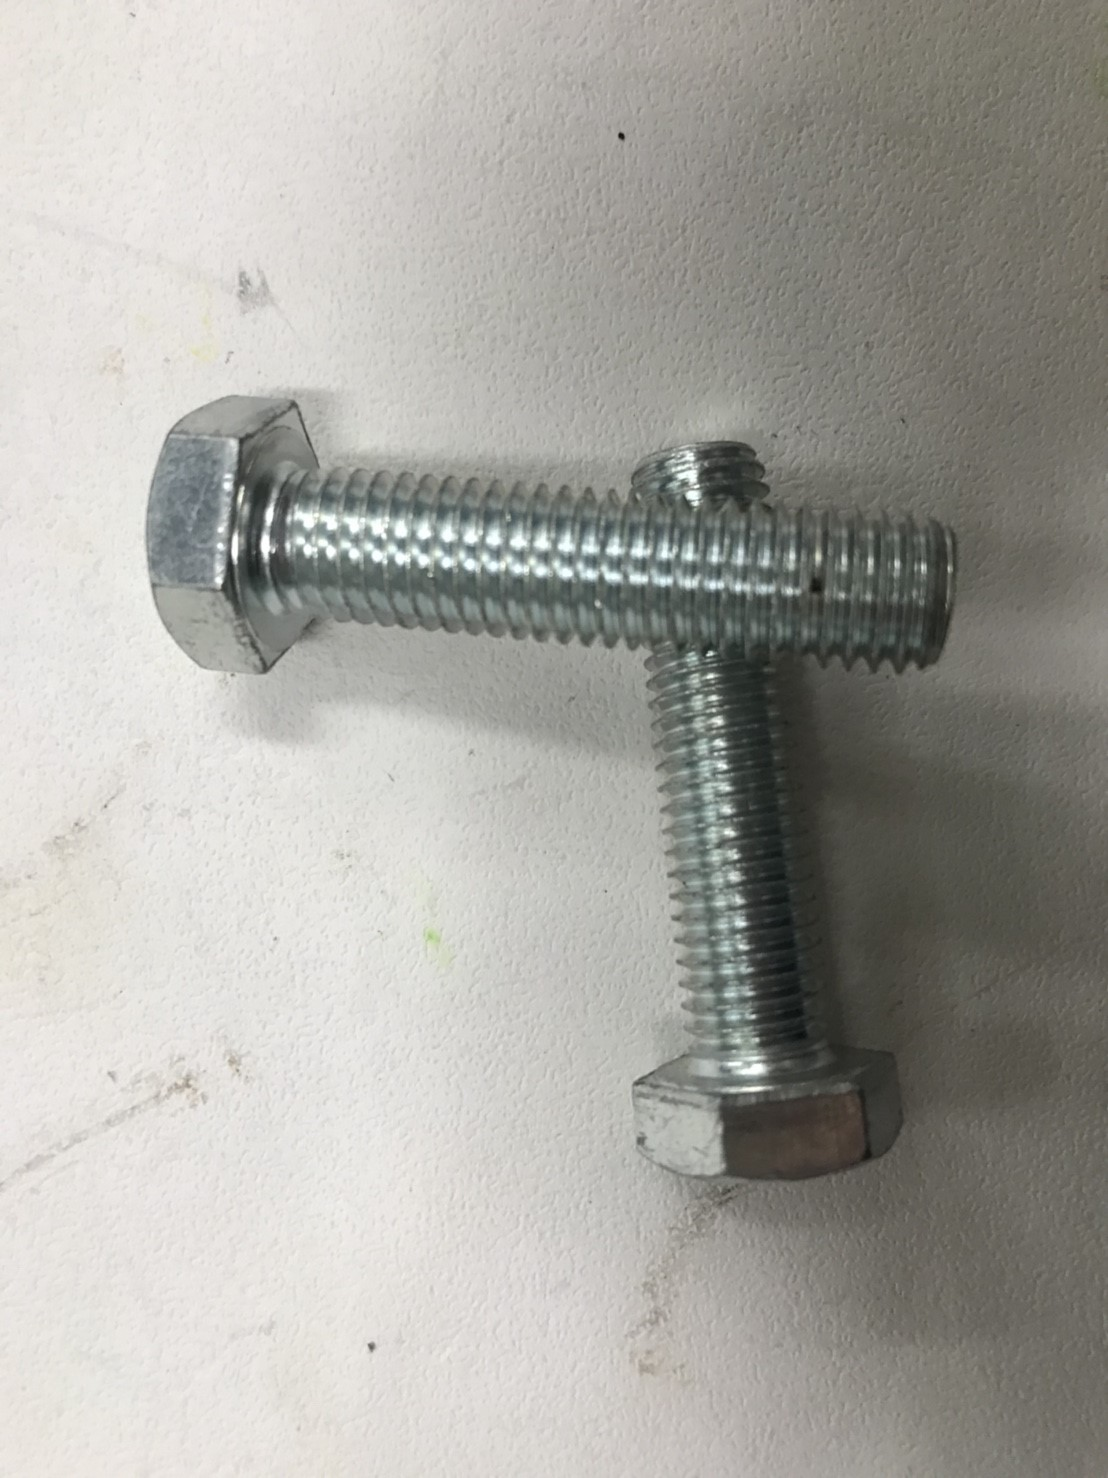screw: (92, 368, 983, 687), (617, 427, 926, 1195)
